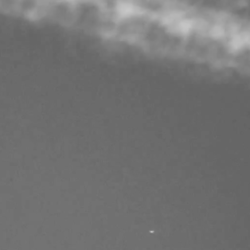Target: (150, 230, 154, 232)
